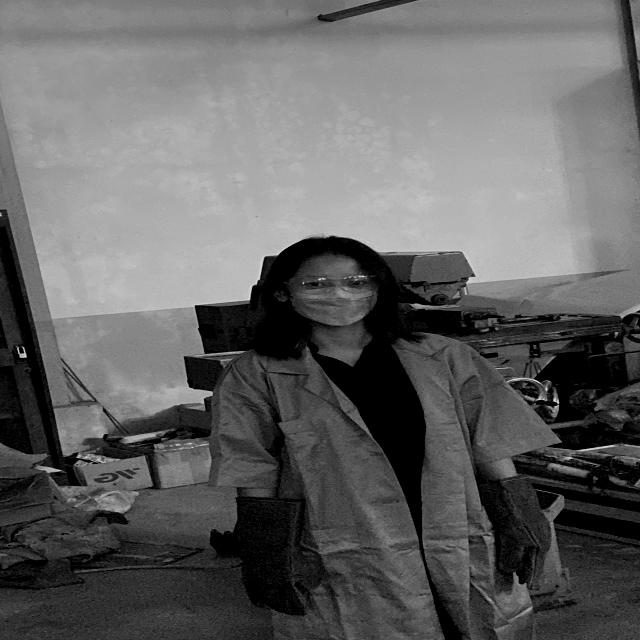face_mask: (283, 271, 383, 327)
glasses: (281, 273, 391, 295)
hand_glove: (226, 546, 329, 620), (483, 515, 567, 590)
head_nohelmet: (272, 232, 386, 269)
person: (200, 231, 572, 640)
